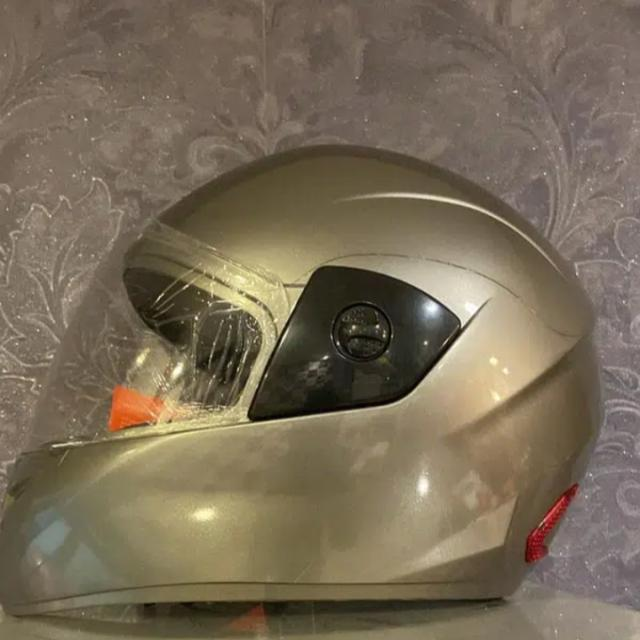Helmet: (59, 136, 597, 640)
